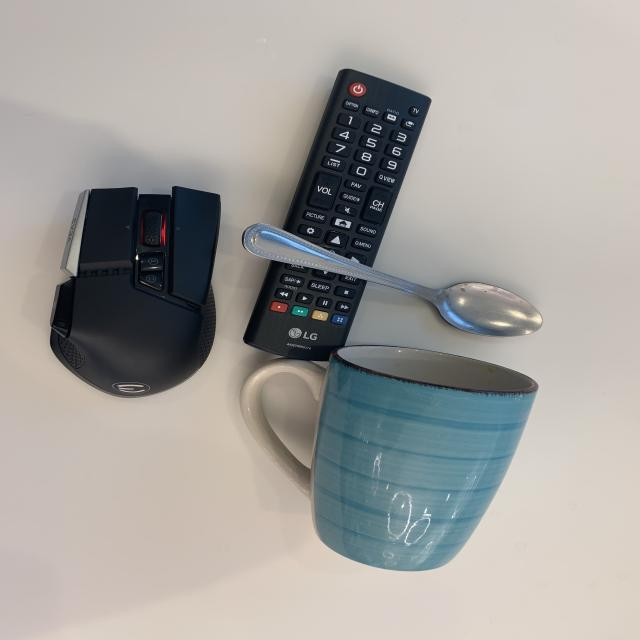Cup: (243, 352, 552, 583)
Mouse: (48, 178, 223, 403)
Spoon: (240, 219, 552, 346)
